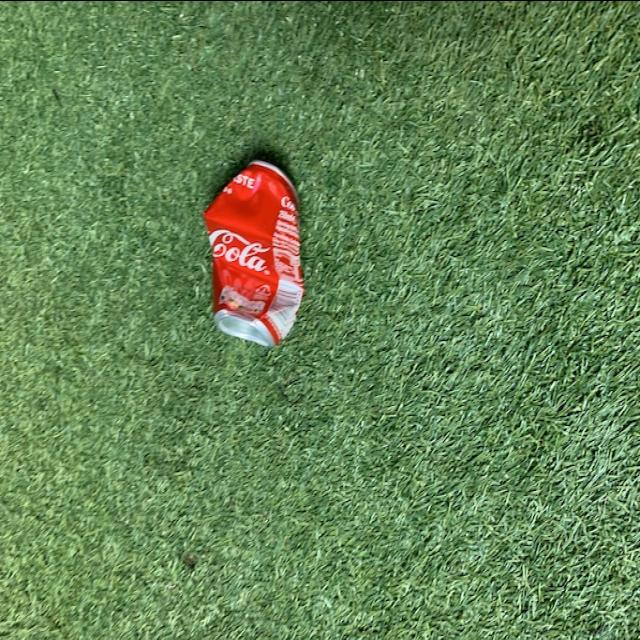Aluminum Can: (200, 148, 306, 350)
